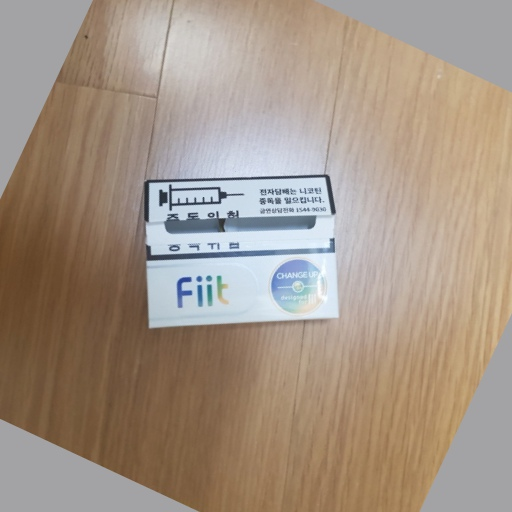Paper_0: (140, 169, 346, 336)
